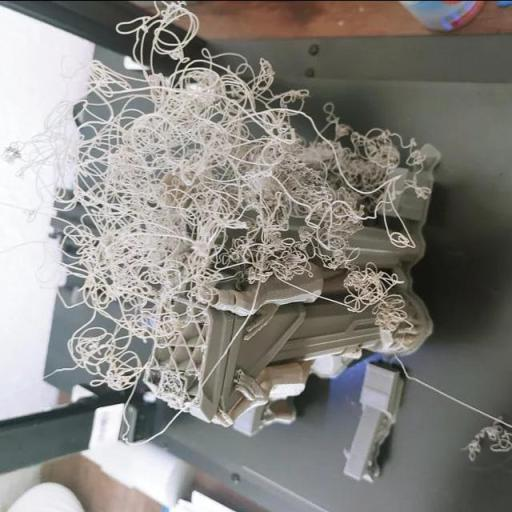spaghetti: (68, 51, 200, 298), (198, 64, 280, 180), (270, 129, 384, 184), (198, 181, 271, 256), (74, 318, 146, 384), (254, 199, 308, 285), (308, 175, 362, 247), (128, 0, 194, 57), (354, 260, 404, 332), (463, 410, 512, 456)
